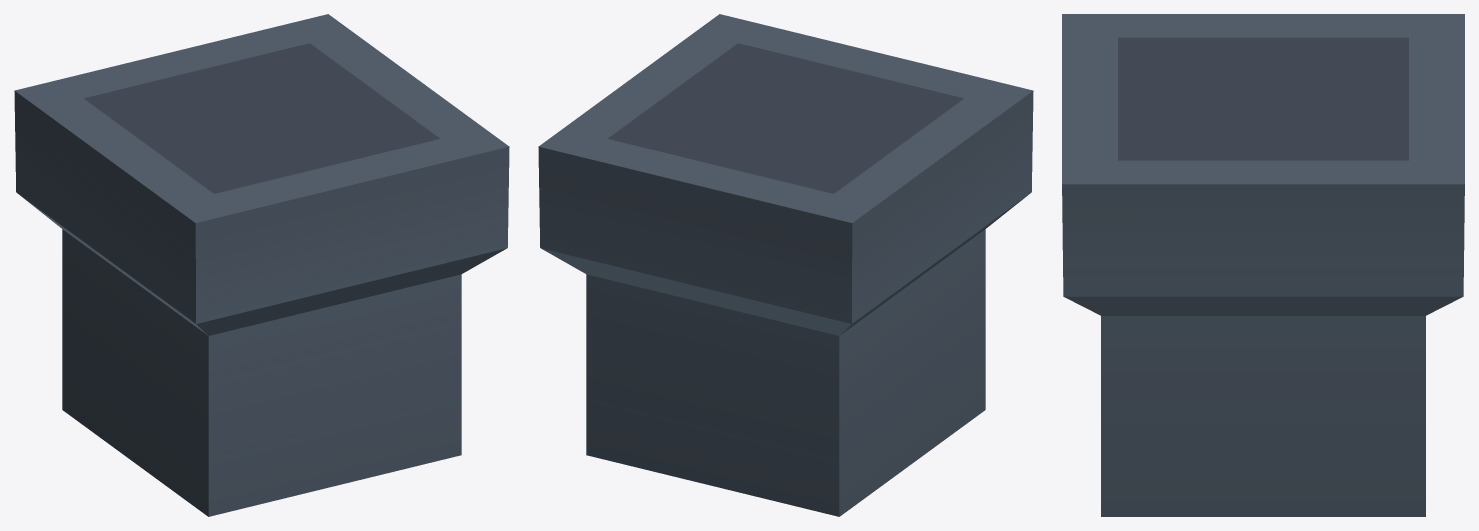
File: Chimney_2_A_3.fbx
3 views of the same model, side by side, from view 1: azimuth 30°, elevation 25°; view 2: azimuth 150°, elevation 25°; view 3: azimuth 270°, elevation 25° (orthographic). The views are drawn at different scales.
Parts seen in each view (by area): view 1: Chimney_2_A_3; view 2: Chimney_2_A_3; view 3: Chimney_2_A_3.
Part boxes in pixels (bbox=[...]): Chimney_2_A_3: bbox=[14, 14, 509, 516]; Chimney_2_A_3: bbox=[538, 14, 1033, 516]; Chimney_2_A_3: bbox=[1062, 14, 1464, 516].
Size of the model in its own units: 63.29 by 60.52 by 63.29.
